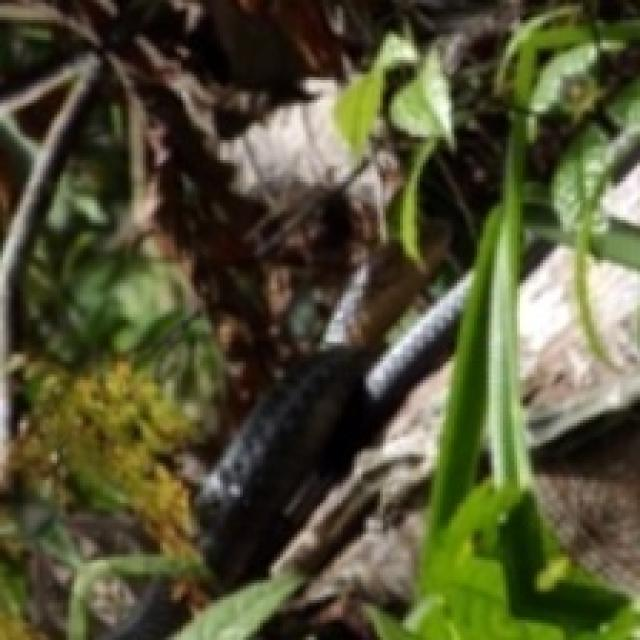king cobra: (199, 244, 464, 588), (112, 582, 184, 640)
